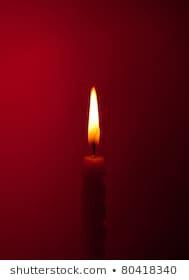fire: (85, 83, 102, 153)
